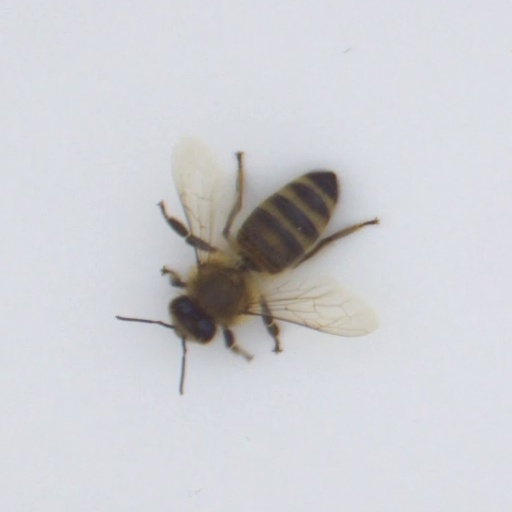Bee: (146, 155, 360, 367)
Thorax: (187, 261, 248, 323)
